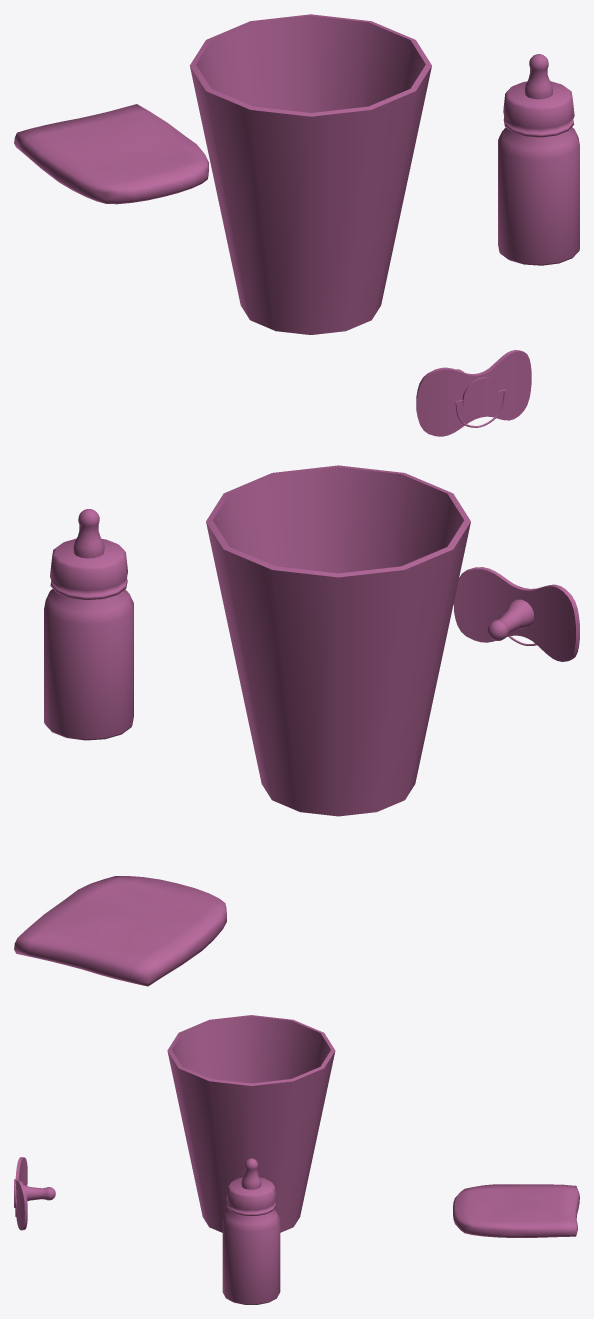
File: trait.fbx
3 renders of one model, top to bottom at view 1: azimuth 30°, elevation 25°; view 2: azimuth 150°, elevation 25°; view 3: azimuth 270°, elevation 25°, orthographic. The views are drawn at different scales.
Visible parts, largest first — view 1: Cylinder001, Object_4, Group56925, Line001; view 2: Cylinder001, Object_4, Group56925, Line001; view 3: Cylinder001, Object_4, Group56925, Line001.
Part boxes in pixels (x1=…): Cylinder001: x1=189, y1=14, x2=431, y2=334; Object_4: x1=498, y1=54, x2=579, y2=265; Group56925: x1=14, y1=104, x2=208, y2=204; Line001: x1=416, y1=350, x2=531, y2=436; Cylinder001: x1=206, y1=465, x2=470, y2=816; Object_4: x1=44, y1=509, x2=133, y2=740; Group56925: x1=14, y1=876, x2=226, y2=986; Line001: x1=453, y1=567, x2=579, y2=661; Cylinder001: x1=167, y1=1015, x2=335, y2=1232; Object_4: x1=222, y1=1158, x2=280, y2=1304; Group56925: x1=453, y1=1184, x2=579, y2=1237; Line001: x1=14, y1=1157, x2=55, y2=1230.
Bounding box in the file's own units: 14.2 × 8.95 × 27.27.
